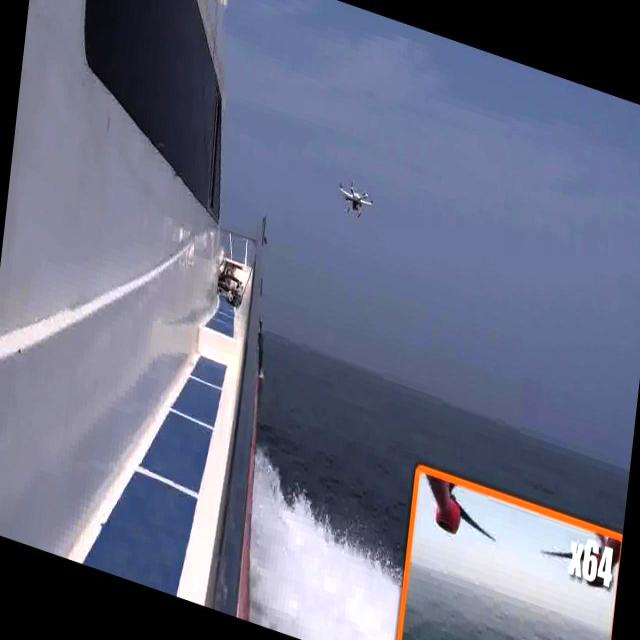drone: (334, 164, 378, 231)
